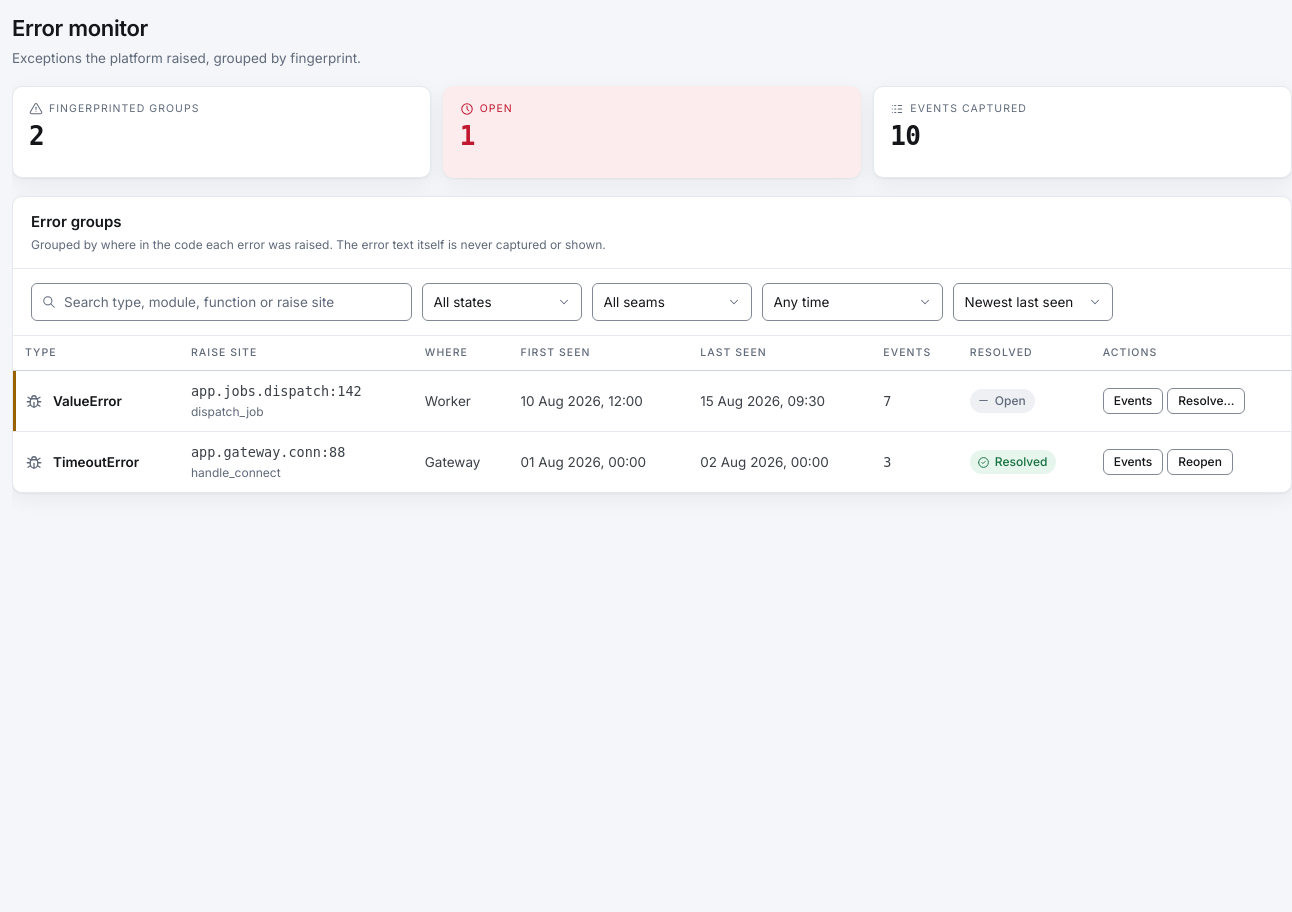
Test case: ErrorMonitorPage › selecting a group fetches and renders its recent events' correlation ids
Step 1. Click the text "ValueError" → [652, 401], box [13,370,1291,432]
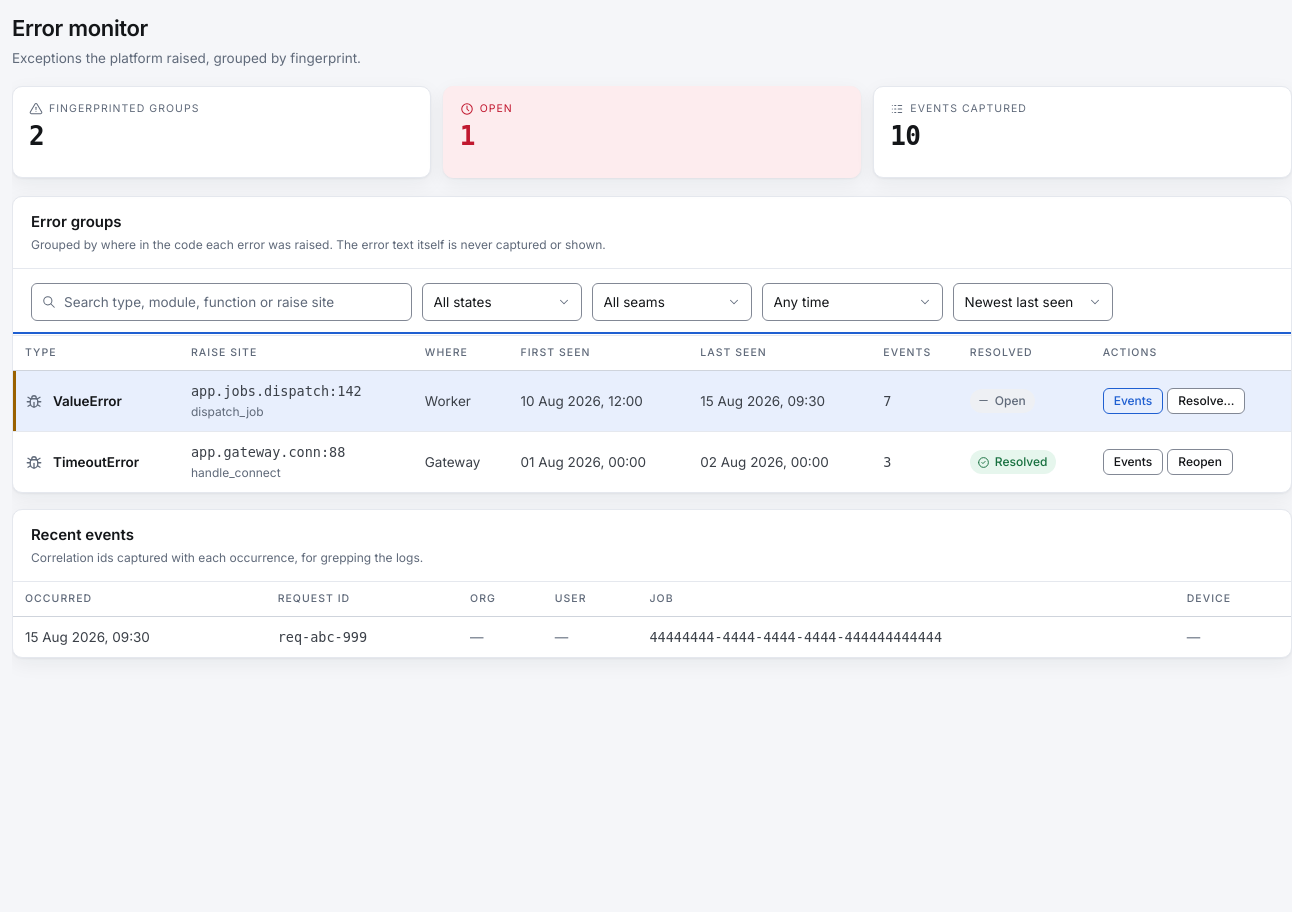
Expected: the text "—" is shown 3 times, [470,628,484,644]; [555,628,568,644]; [1187,628,1200,644]
Expected: the text "44444444-4444-4444-4444-444444444444" is shown, [650,628,942,644]
